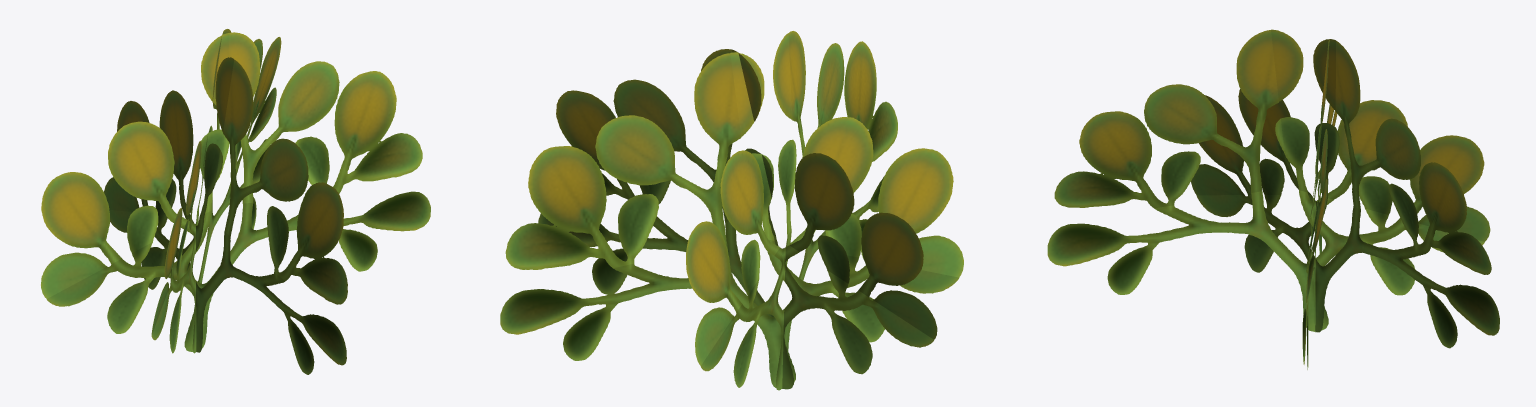
File: SM_GroundCover_b.fbx
3 renders of one model, left to right at view 1: azimuth 30°, elevation 25°; view 2: azimuth 150°, elevation 25°; view 3: azimuth 270°, elevation 25°, orthographic. The views are drawn at different scales.
Parts seen in each view (by area): view 1: SM_GroundCover_b; view 2: SM_GroundCover_b; view 3: SM_GroundCover_b.
Part boxes in pixels (x1,y1,x2,y2): SM_GroundCover_b: (41, 29, 430, 374); SM_GroundCover_b: (500, 31, 963, 390); SM_GroundCover_b: (1047, 29, 1499, 369).
Bounding box in the file's own units: 35.22 × 35.18 × 25.69.
Materials: 1 (1 with a texture image).
